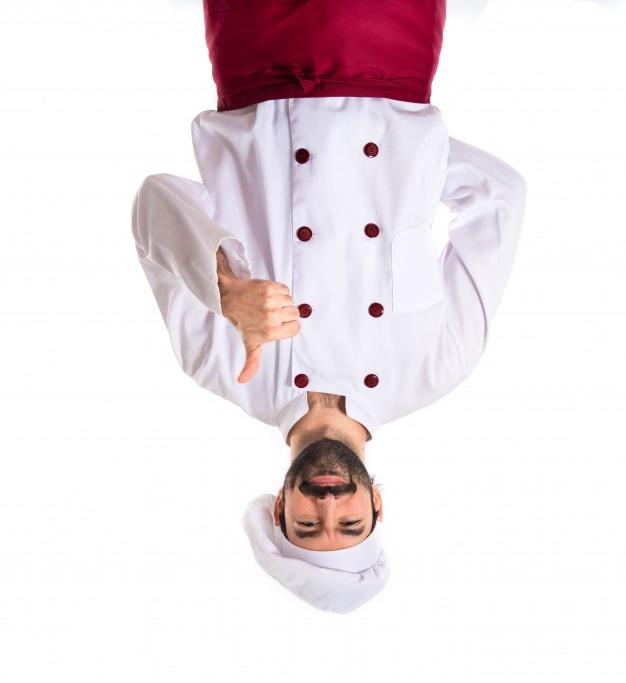thumbsdown: (237, 279, 301, 384)
